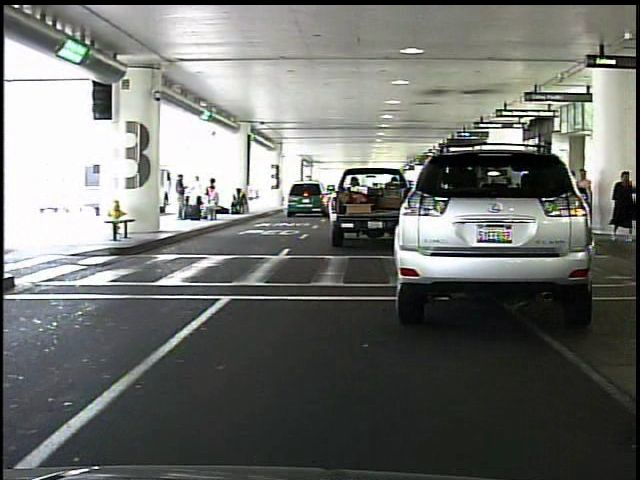person: (606, 166, 633, 242), (573, 166, 597, 237), (172, 171, 192, 224)
